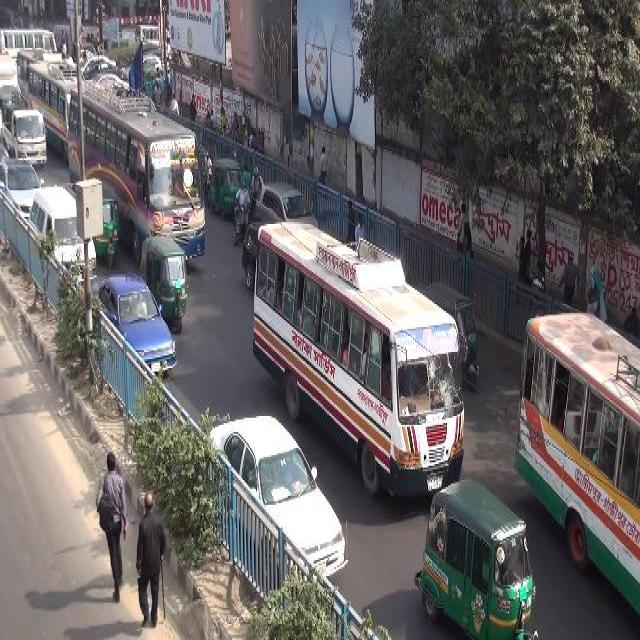bus: (250, 220, 468, 498), (518, 304, 638, 624), (66, 85, 206, 263), (26, 57, 74, 153), (0, 25, 60, 82), (136, 20, 166, 40)
car: (206, 417, 350, 586), (92, 270, 178, 380), (254, 175, 318, 241), (2, 156, 42, 214), (238, 221, 258, 291), (79, 48, 113, 84), (123, 48, 161, 76), (91, 65, 121, 88)
pickup: (2, 107, 52, 167)
scooter: (230, 199, 246, 242)
three wheelers -CNG-: (416, 475, 544, 638), (426, 275, 482, 390), (140, 233, 193, 325), (138, 231, 186, 331), (211, 152, 241, 221), (92, 184, 118, 260)
van: (31, 185, 99, 284)
